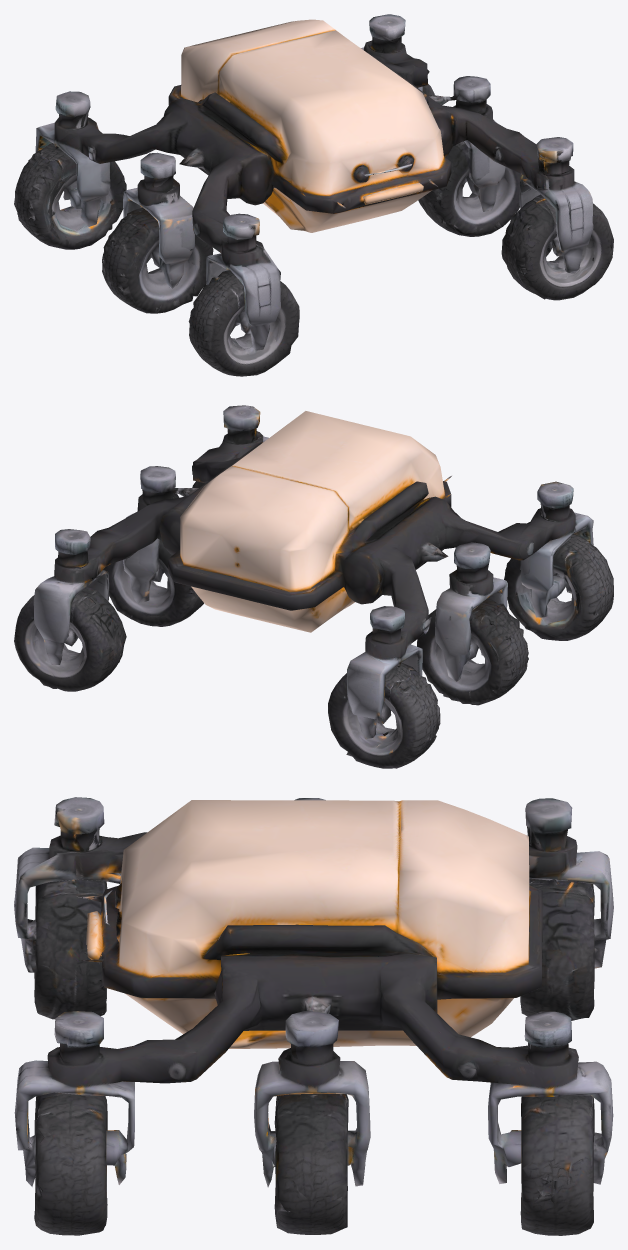
Rendered from Rover.glb.
3 views of the same model, one above another, from view 1: azimuth 30°, elevation 25°; view 2: azimuth 150°, elevation 25°; view 3: azimuth 270°, elevation 25° (orthographic). The views are drawn at different scales.
Parts seen in each view (by area): view 1: Mesh_0.031; view 2: Mesh_0.031; view 3: Mesh_0.031.
Boxes of the visible parts, x1,y1,x2,y2 form: Mesh_0.031: [14, 14, 613, 376]; Mesh_0.031: [14, 405, 613, 768]; Mesh_0.031: [14, 797, 613, 1235].
Bounding box in the file's own units: 1.99 × 0.9471 × 1.8.
1 material, 1 textured.
